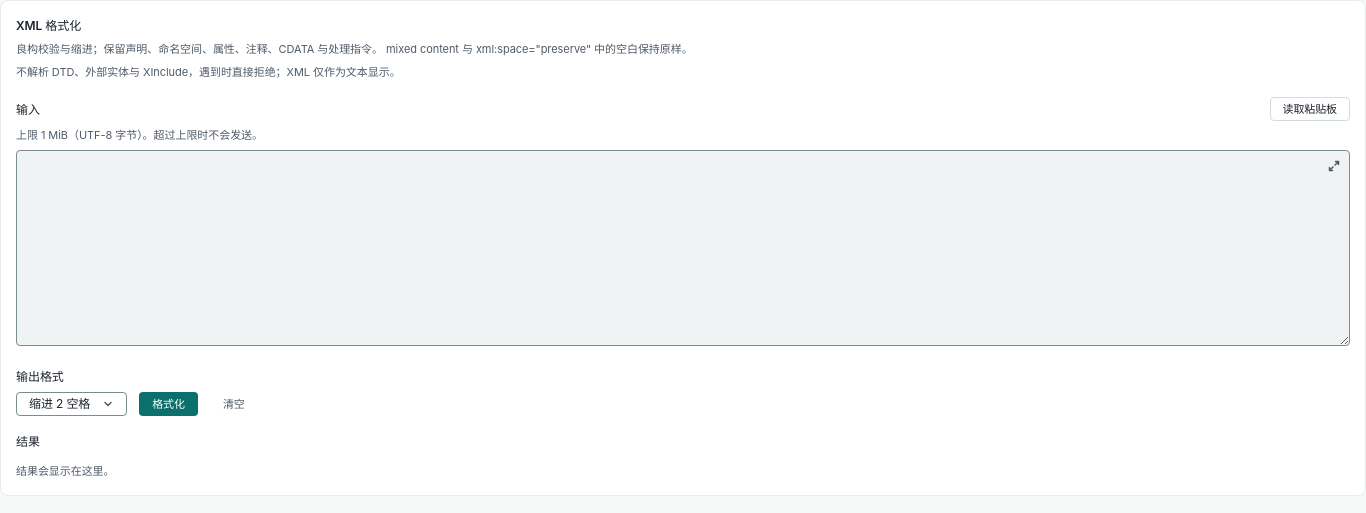
XmlTool › lists the indent modes once the output format is opened
Click the button named "输出格式": click(72, 404) [16,392,127,416]
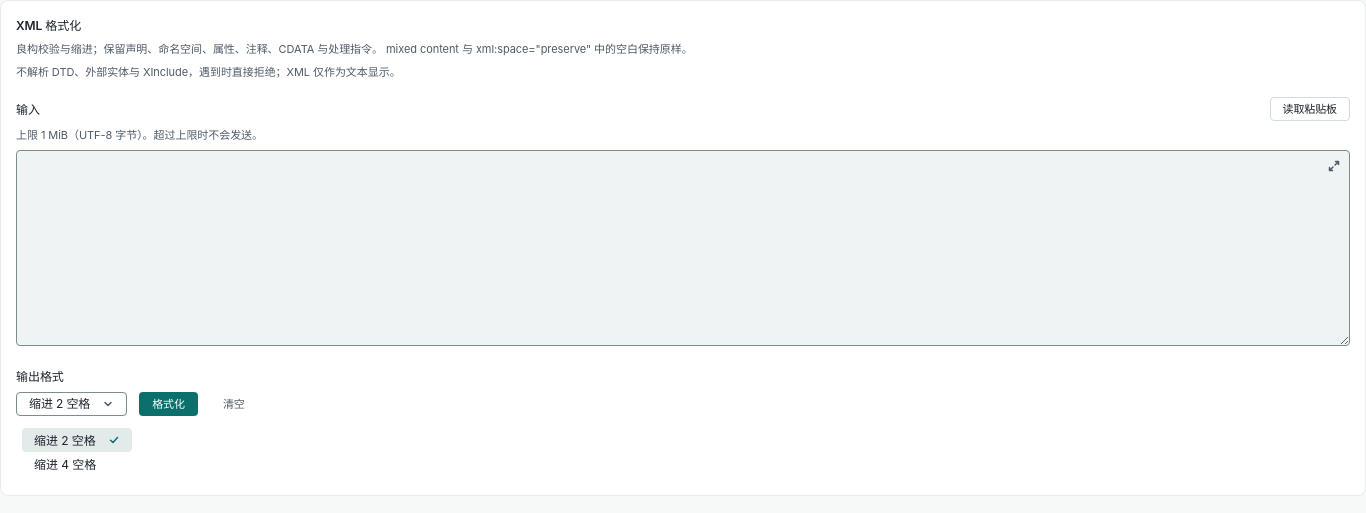
Expected: the option "缩进 2 空格" is shown, [22,428,132,452]
Expected: the option "缩进 4 空格" is shown, [34,456,96,472]
